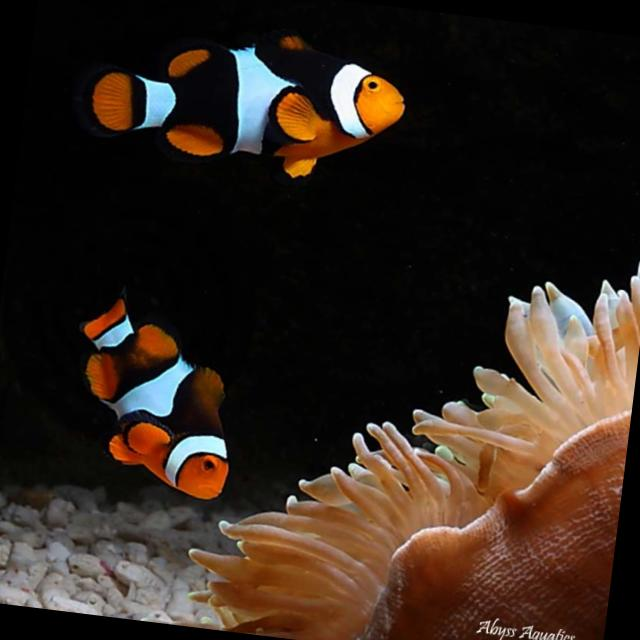ClownFish: (83, 8, 410, 190), (56, 280, 250, 510)
